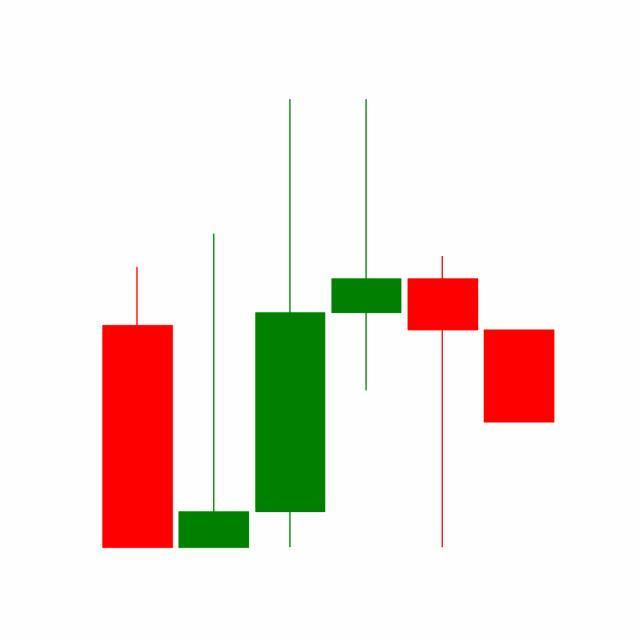Hammer: (404, 253, 482, 552)
